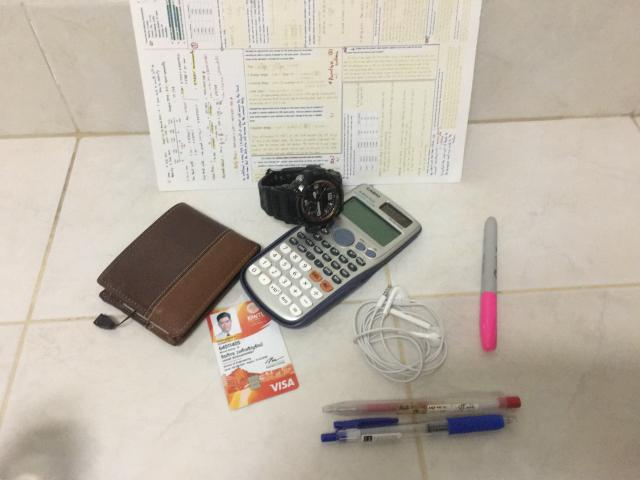Pen: (321, 414, 518, 442), (322, 392, 521, 416), (480, 216, 498, 351)
Wallet: (98, 202, 260, 345)
Watch: (258, 165, 344, 232)
paper: (130, 0, 481, 190)
wire: (354, 285, 448, 382)
